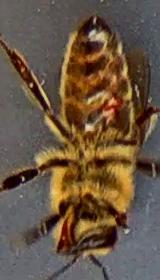varroa_mite: (100, 91, 124, 129)
